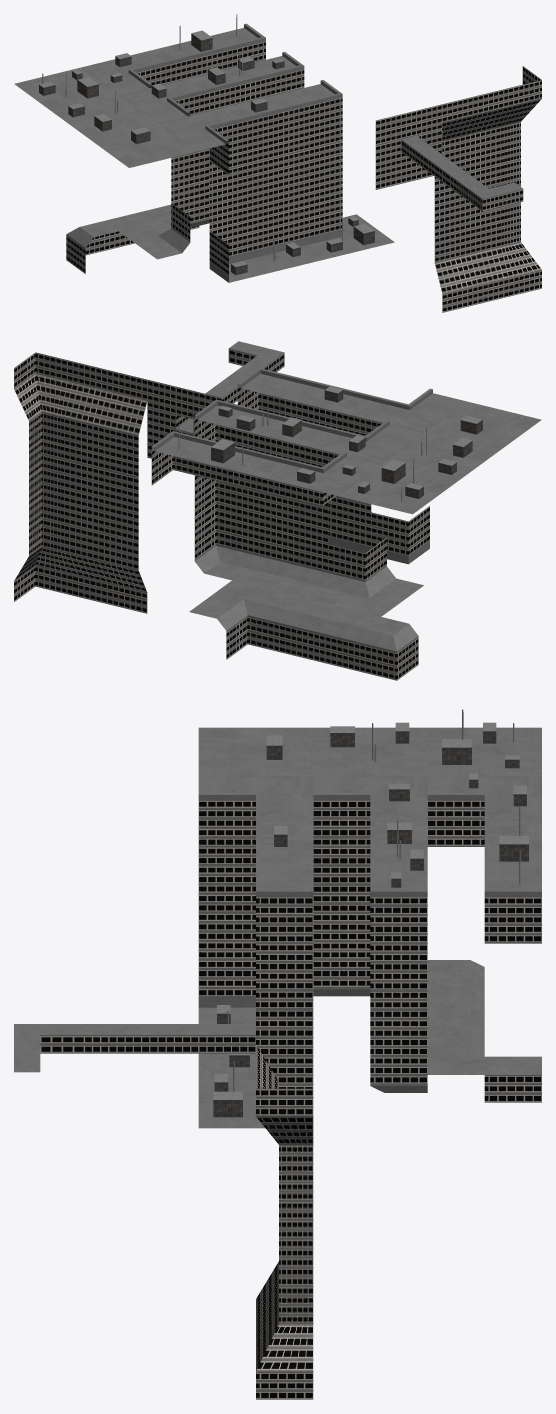
Rendered from CityTiles.fbx.
The picture shows the model from 3 angles, top to bottom: view 1: azimuth 30°, elevation 25°; view 2: azimuth 150°, elevation 25°; view 3: azimuth 270°, elevation 25°; orthographic projection. The views are drawn at different scales.
Parts seen in each view (by area): view 1: BeveledWallBottom, Wall, BridgeEnd, TopToWall, BeveledWallTop, WallTop, BeveledWall, TopToWallEdge, WallTopInnerEdge, WallTop.001, WallBottomInnerEdge, WallTop.002 (+19 smaller); view 2: BeveledWallTop, BeveledWall, BeveledWallBottom, WallBottomToRegularEdge, WallBottomInnerEdge, WallBottom, WallBottomToRegular, BeveledWallTopEdge, Top.002, WallTopInnerEdge.002, Top, BeveledWallBottomEdge (+20 smaller); view 3: WallTopInnerEdge, WallTopInnerEdge.002, WallTopInnerEdge.001, WallEdge.001, WallEdge, WallInnerEdge, WallInnerEdge.001, Top.001, Top.002, Top, BeveledWallBottomEdge, WallBottomToRegularEdge (+19 smaller).
Part boxes in pixels (<box>): BeveledWallBottom: <box>434,221,508,312</box>; Wall: <box>243,137,309,222</box>; BridgeEnd: <box>375,104,442,189</box>; TopToWall: <box>243,206,327,274</box>; BeveledWallTop: <box>442,88,508,163</box>; WallTop: <box>224,91,309,152</box>; BeveledWall: <box>434,152,500,237</box>; TopToWallEdge: <box>309,198,394,258</box>; WallTopInnerEdge: <box>157,107,242,174</box>; WallTop.001: <box>185,51,270,111</box>; WallBottomInnerEdge: <box>119,194,204,259</box>; WallTop.002: <box>147,26,232,83</box>; BeveledWallTop: <box>64,361,147,463</box>; BeveledWall: <box>64,446,138,541</box>; BeveledWallBottom: <box>64,524,147,613</box>; WallBottomToRegularEdge: <box>189,580,305,659</box>; WallBottomInnerEdge: <box>307,537,423,616</box>; WallBottom: <box>232,526,328,598</box>; WallBottomToRegular: <box>285,598,380,671</box>; BeveledWallTopEdge: <box>14,352,72,449</box>; Top.002: <box>338,457,455,514</box>; WallTopInnerEdge.002: <box>264,451,380,506</box>; Top: <box>425,401,541,451</box>; BeveledWallBottomEdge: <box>14,518,72,601</box>; WallTopInnerEdge: <box>198,776,313,846</box>; WallTopInnerEdge.002: <box>427,773,541,846</box>; WallTopInnerEdge.001: <box>313,776,427,846</box>; WallEdge.001: <box>370,943,427,1047</box>; WallEdge: <box>256,943,313,1047</box>; WallInnerEdge: <box>198,847,255,950</box>; WallInnerEdge.001: <box>313,847,370,950</box>; Top.001: <box>313,722,427,775</box>; Top.002: <box>427,709,541,775</box>; Top: <box>198,727,313,775</box>; BeveledWallBottomEdge: <box>256,1286,313,1399</box>; WallBottomToRegularEdge: <box>427,1026,541,1102</box>.
Size of the model in its own units: 1300 by 761 by 923.
